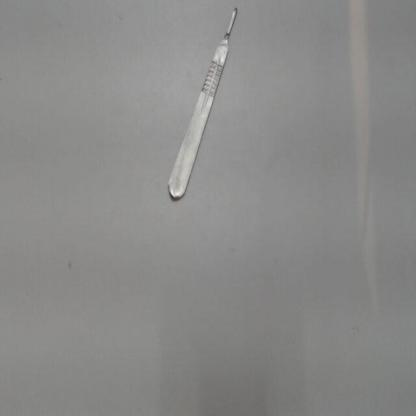No.3 BP Handle: (161, 5, 247, 208)
